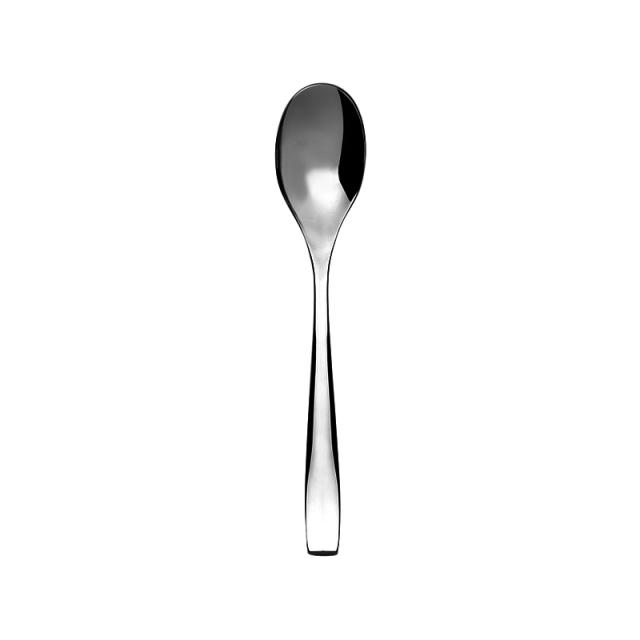spoon: (258, 78, 384, 570)
